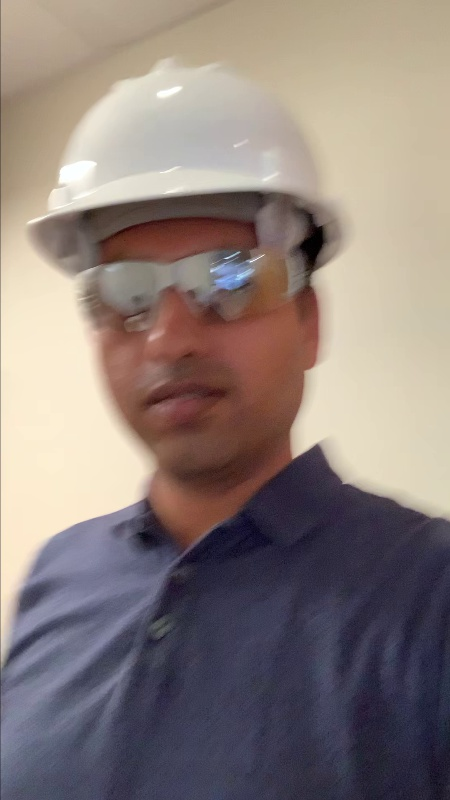glasses: (59, 250, 320, 332)
helmet: (17, 47, 355, 255)
